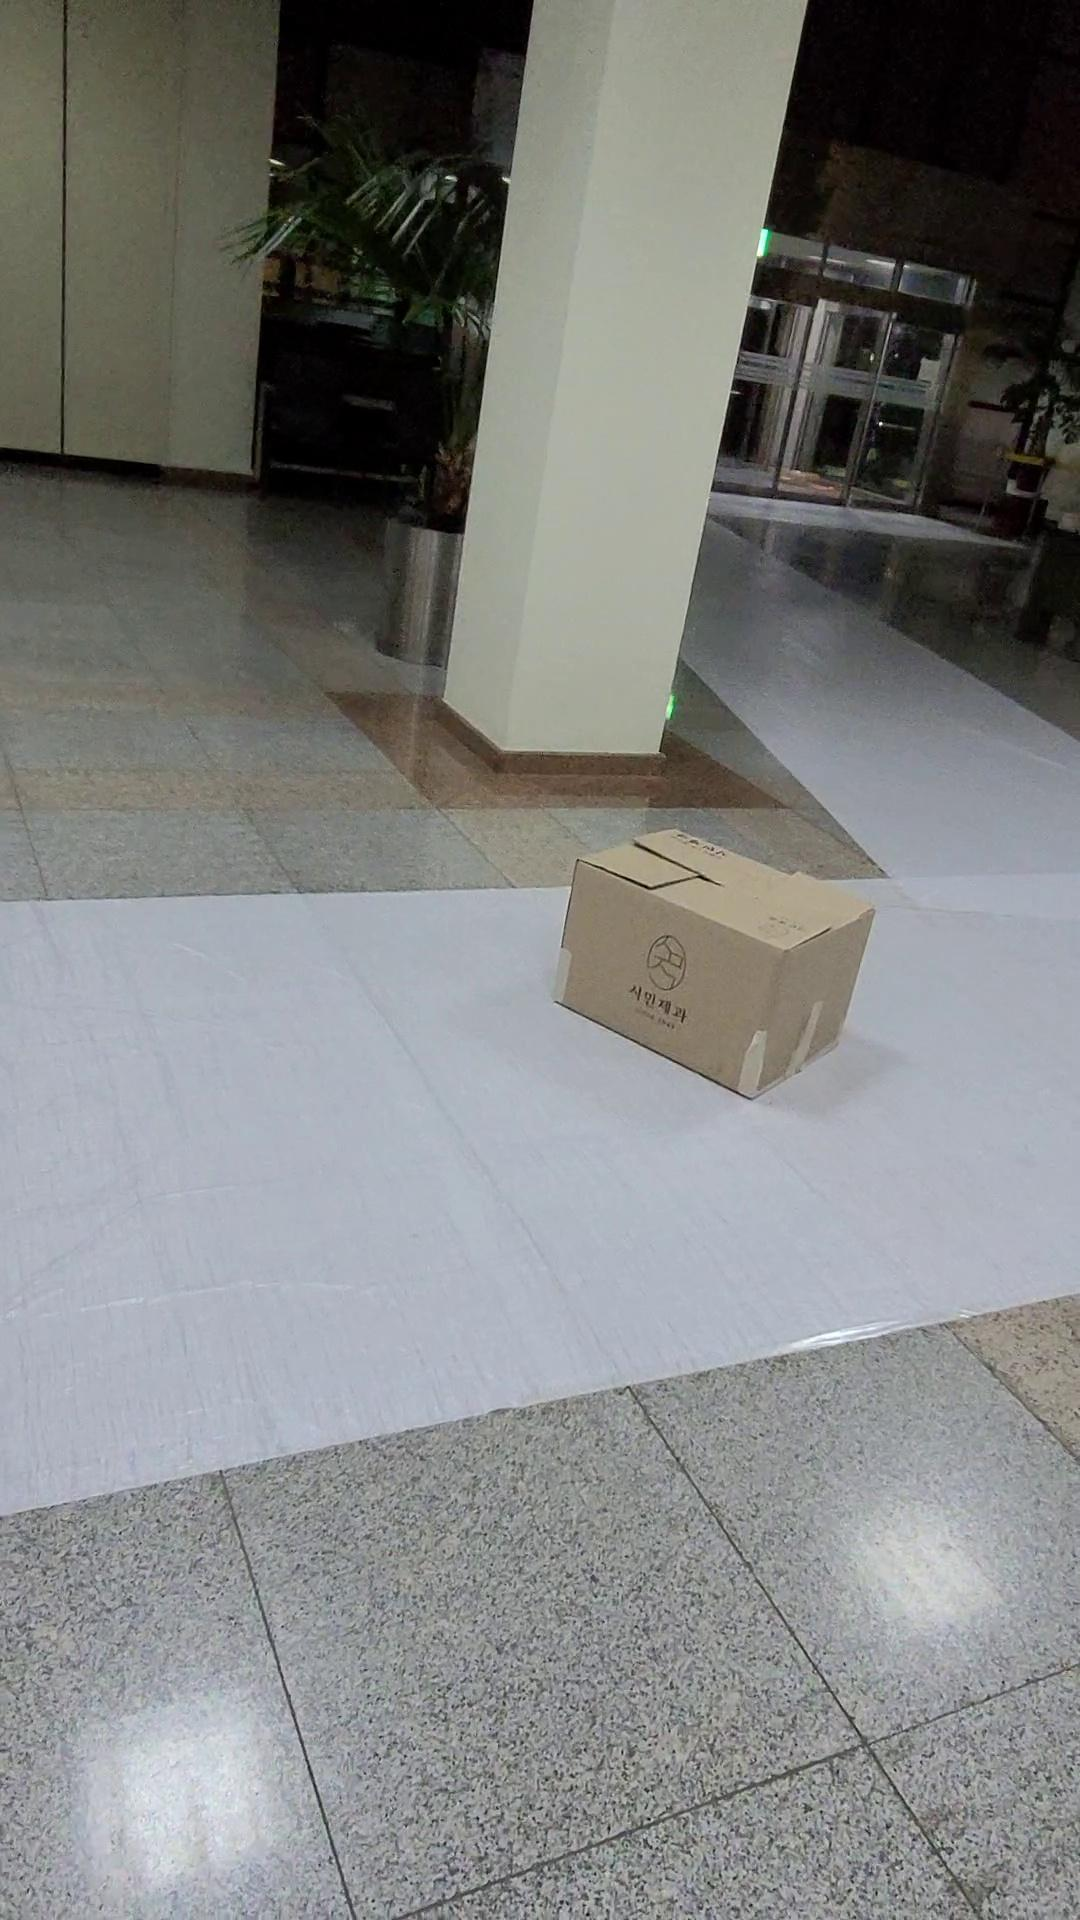Box: (543, 828, 899, 1139)
